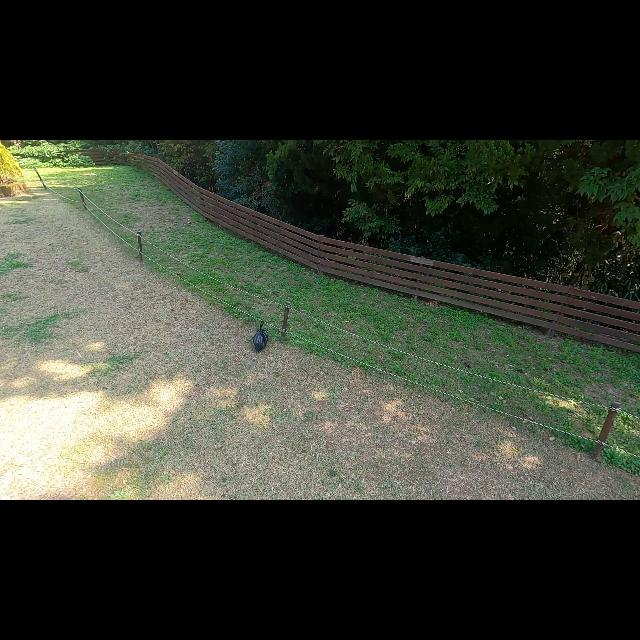trash: (250, 318, 270, 352)
